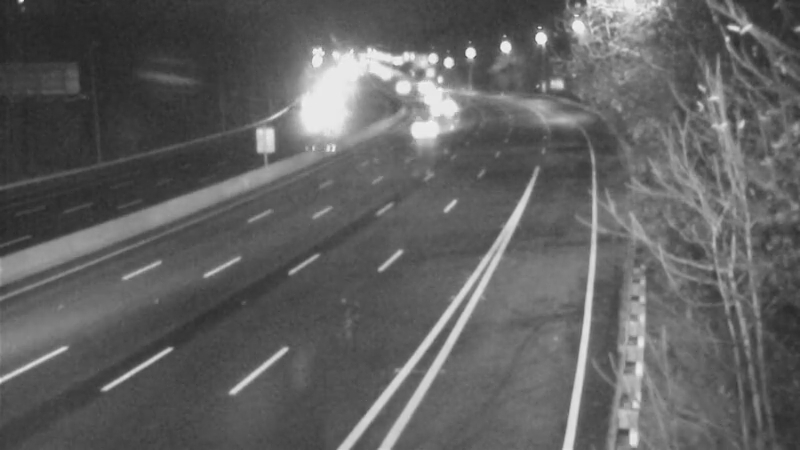vehicle: (379, 62, 429, 112), (399, 61, 449, 111), (407, 72, 457, 122), (416, 86, 466, 136), (399, 102, 449, 152), (287, 96, 337, 146)
